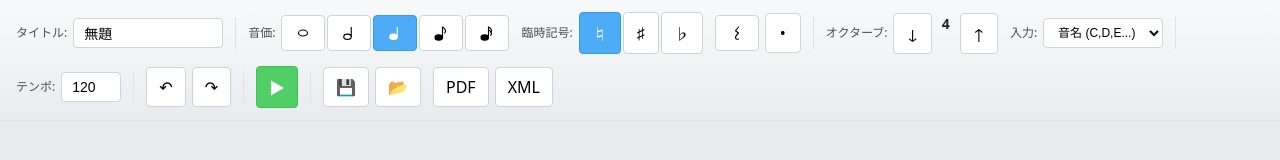
Test: Toolbar › オクターブ制御 › オクターブ下げるボタンをクリックするとオクターブが減少する
The width and height of the screenshot is (1280, 160).
Click the button titled "オクターブ下げる (↓)": [913, 33] box [894, 12, 932, 54]
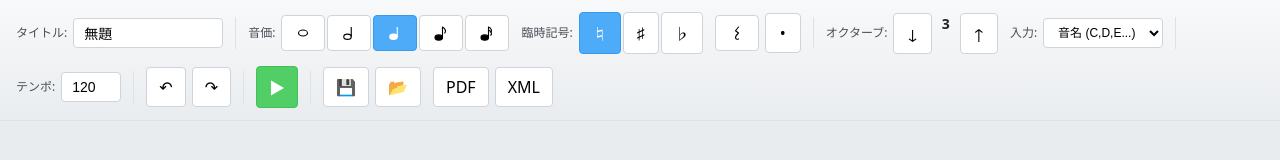
Now the text "3" is shown, box [942, 14, 950, 32]
